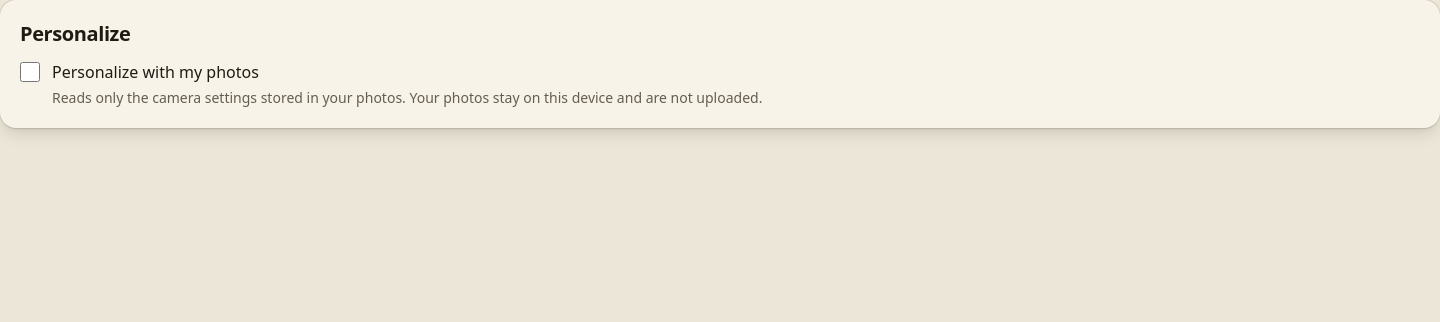
PhotoMode › turning it on shows the import button and remembers the choice after a remount
Later steps or results of the test are not shown.
Click the checkbox labelled "Personalize with my photos".
click(30, 72)  # box [20, 62, 40, 82]
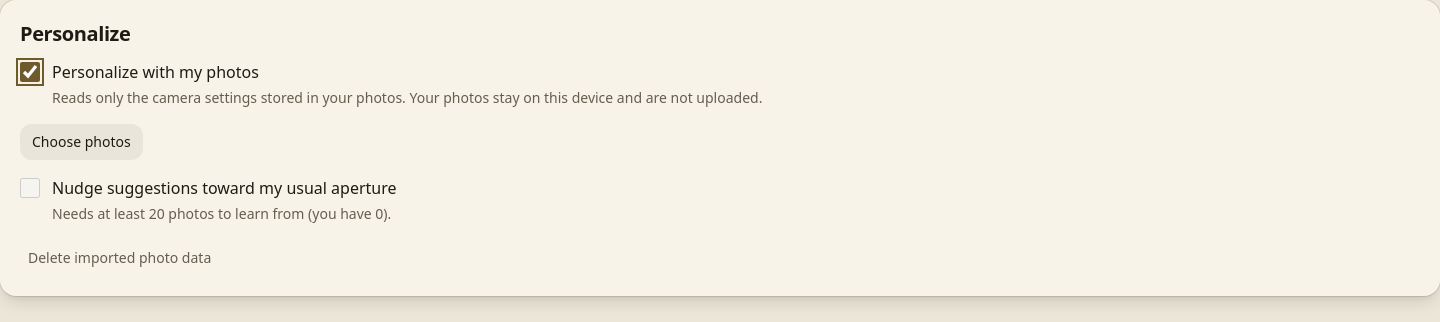
Now the button "Choose photos" is shown, box [20, 124, 143, 160]
